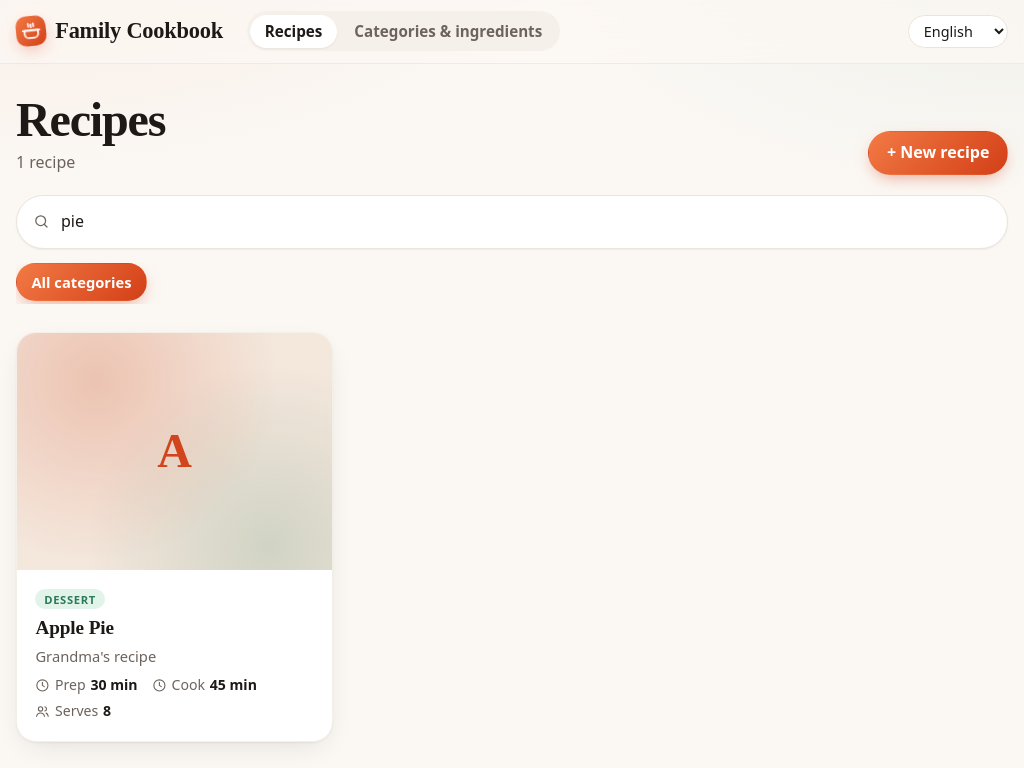
RecipeListPage › clears the search box when the header link resets the URL
The width and height of the screenshot is (1024, 768).
Expected: the link "Apple Pie" is shown, [16,332,333,742]
Click the link "Family Cookbook" at (119, 31), box [16,14,223,49]
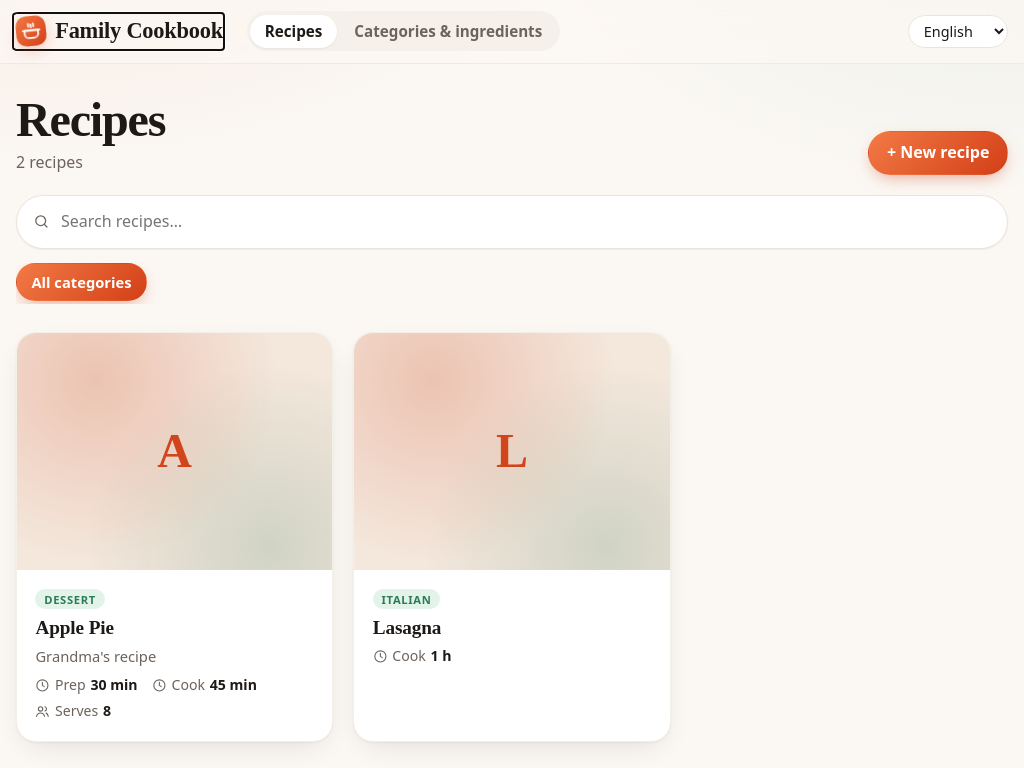
Expected: the link "L Italian Lasagna Cook 1 h" is shown, [353,332,671,742]
Expected: the search field labelled "Search recipes" is empty, [16,195,1008,249]
